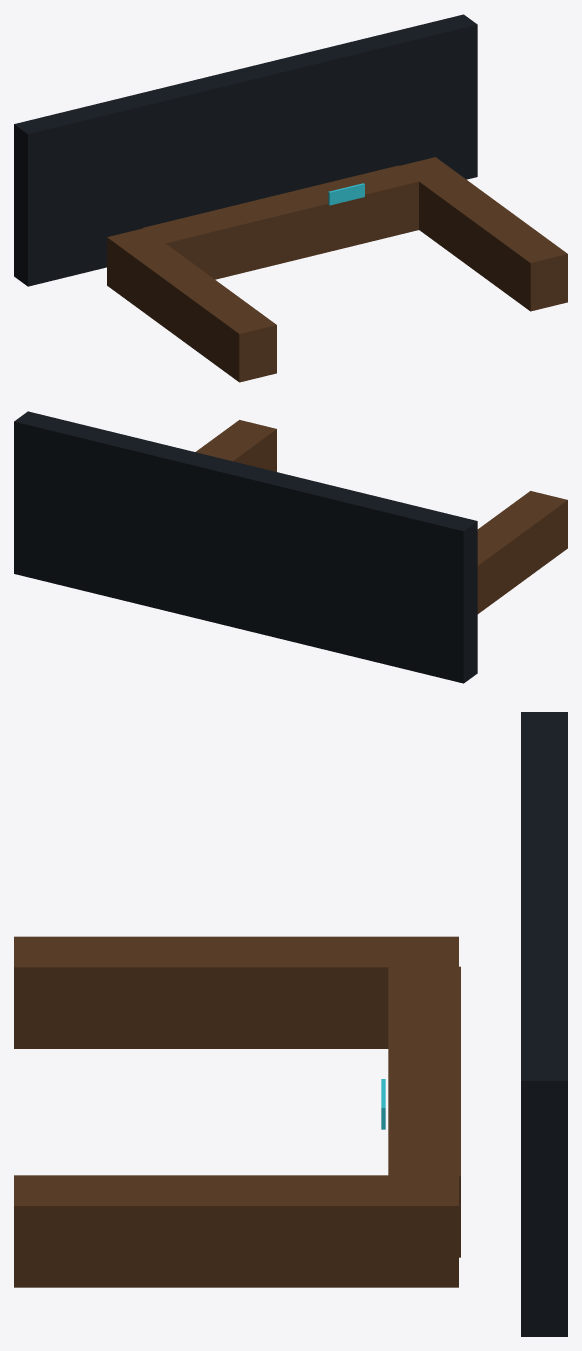
File: module.room_u_shaped_counter.glb
3 views of the same model, one above another, from view 1: azimuth 30°, elevation 25°; view 2: azimuth 150°, elevation 25°; view 3: azimuth 270°, elevation 25° (orthographic). The views are drawn at different scales.
Parts seen in each view (by area): view 1: back_wall, back_counter, left_counter, right_counter, register_glow; view 2: back_wall, left_counter, right_counter; view 3: right_counter, left_counter, back_wall, back_counter.
Part boxes in pixels (left/top/right/bottom): back_wall: left=14, top=14, right=477, bottom=286; back_counter: left=143, top=165, right=419, bottom=279; left_counter: left=107, top=228, right=276, bottom=382; right_counter: left=399, top=157, right=567, bottom=311; register_glow: left=328, top=183, right=364, bottom=205; back_wall: left=14, top=411, right=477, bottom=683; left_counter: left=477, top=491, right=567, bottom=613; right_counter: left=195, top=420, right=276, bottom=471; right_counter: left=14, top=1175, right=458, bottom=1287; left_counter: left=14, top=936, right=458, bottom=1048; back_wall: left=521, top=712, right=567, bottom=1336; back_counter: left=388, top=966, right=460, bottom=1257.
Bounding box in the file's own units: 10.2 × 3.3 × 6.47.
